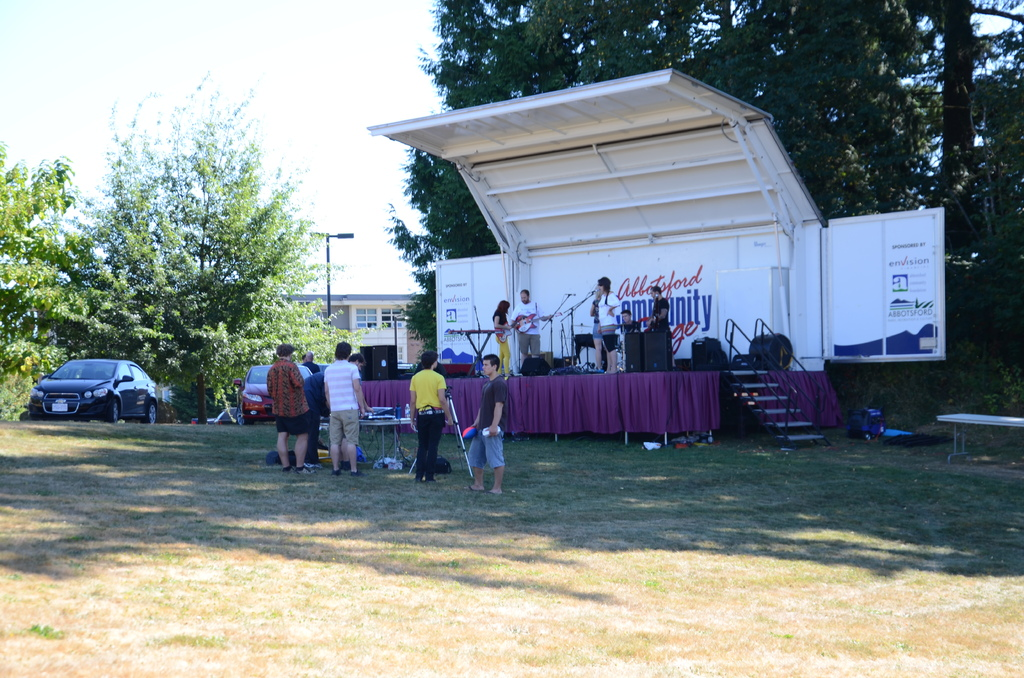Tree: (309, 0, 974, 444), (0, 69, 389, 425), (974, 0, 1023, 467)
